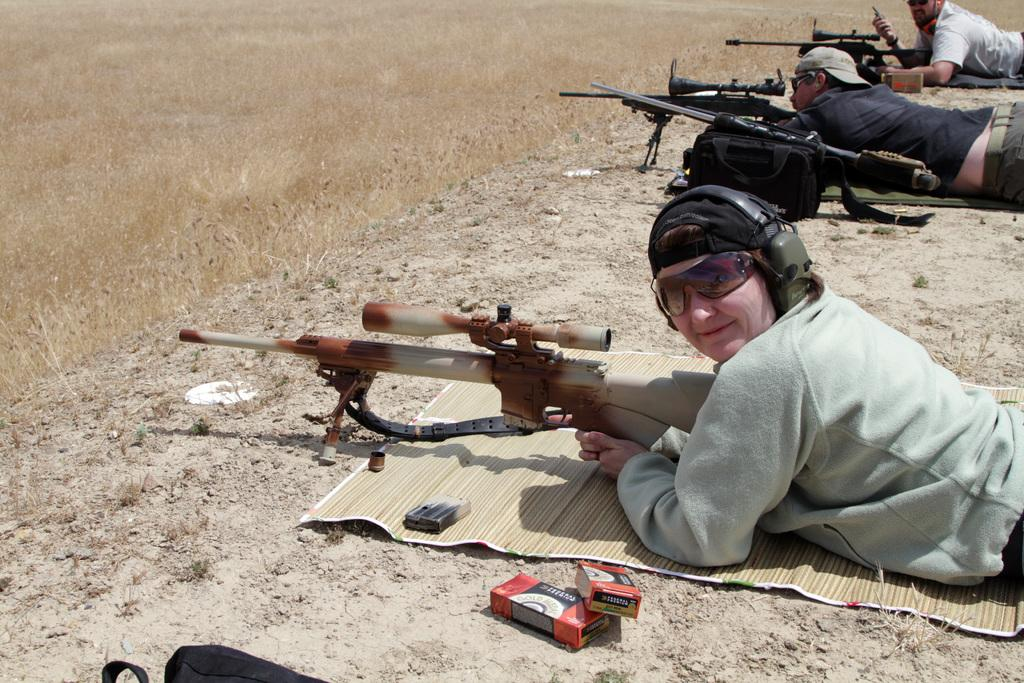Rifle: (180, 304, 716, 463), (589, 81, 934, 214), (556, 58, 799, 175), (724, 21, 934, 73)
